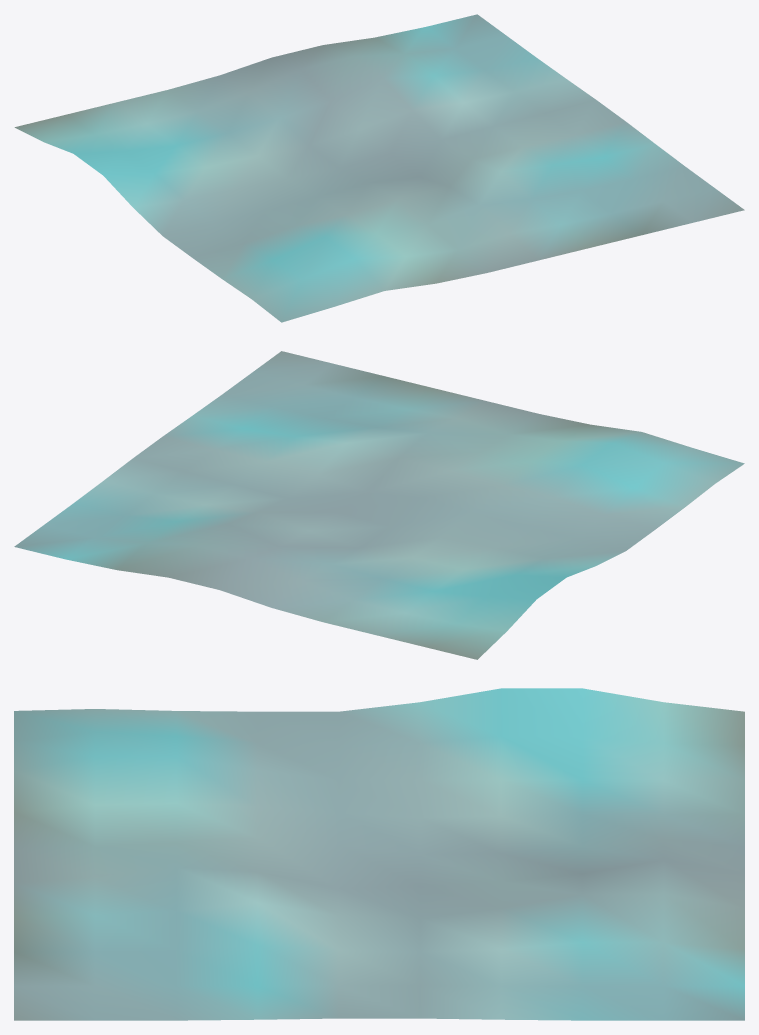
File: snow.fbx
The picture shows the model from 3 angles, top to bottom: view 1: azimuth 30°, elevation 25°; view 2: azimuth 150°, elevation 25°; view 3: azimuth 270°, elevation 25°; orthographic projection. The views are drawn at different scales.
Parts seen in each view (by area): view 1: Plane; view 2: Plane; view 3: Plane.
Boxes of the visible parts, x1,y1,x2,y2 form: Plane: (14, 14, 744, 322); Plane: (14, 351, 744, 659); Plane: (14, 688, 744, 1020).
Bounding box in the file's own units: 507 × 22.43 × 507.
